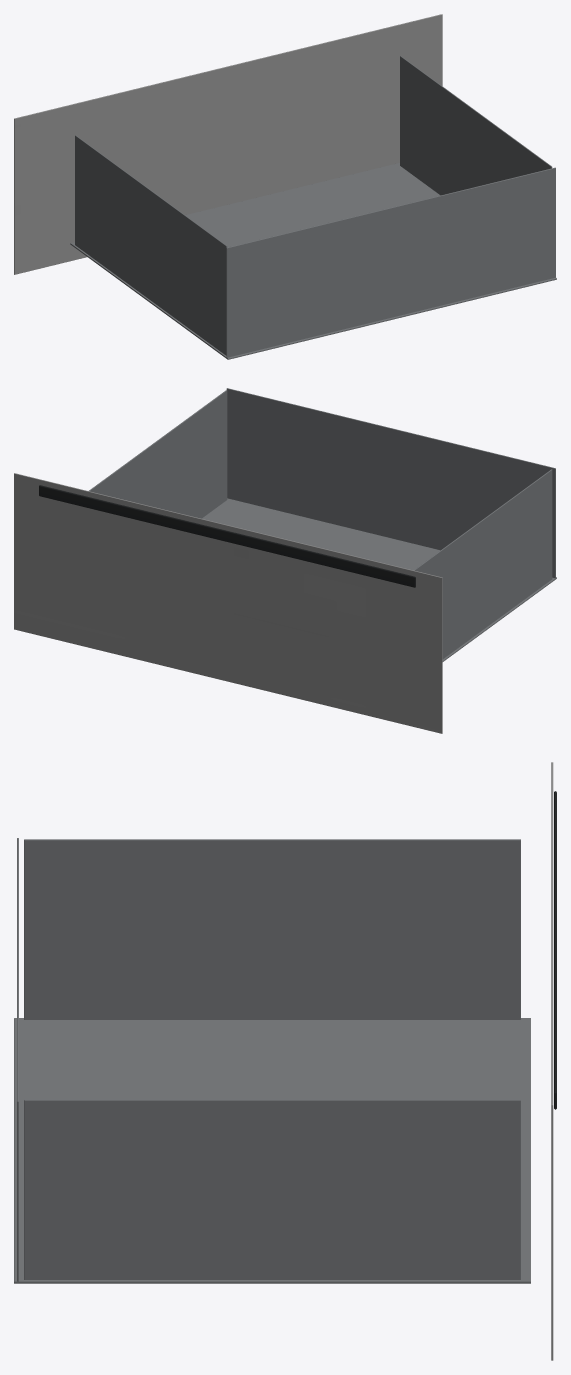
3 renders of one model, top to bottom at view 1: azimuth 30°, elevation 25°; view 2: azimuth 150°, elevation 25°; view 3: azimuth 270°, elevation 25°, orthographic. The views are drawn at different scales.
Visible parts, largest first — view 1: drawer; view 2: drawer; view 3: drawer.
Boxes of the visible parts, box(x1,y1,x2,y2) form: drawer: box(14, 14, 556, 359); drawer: box(14, 388, 556, 733); drawer: box(14, 762, 556, 1360).
Bounding box in the file's own units: 0.7541 × 0.2626 × 0.5048.
3 materials, 1 textured.
